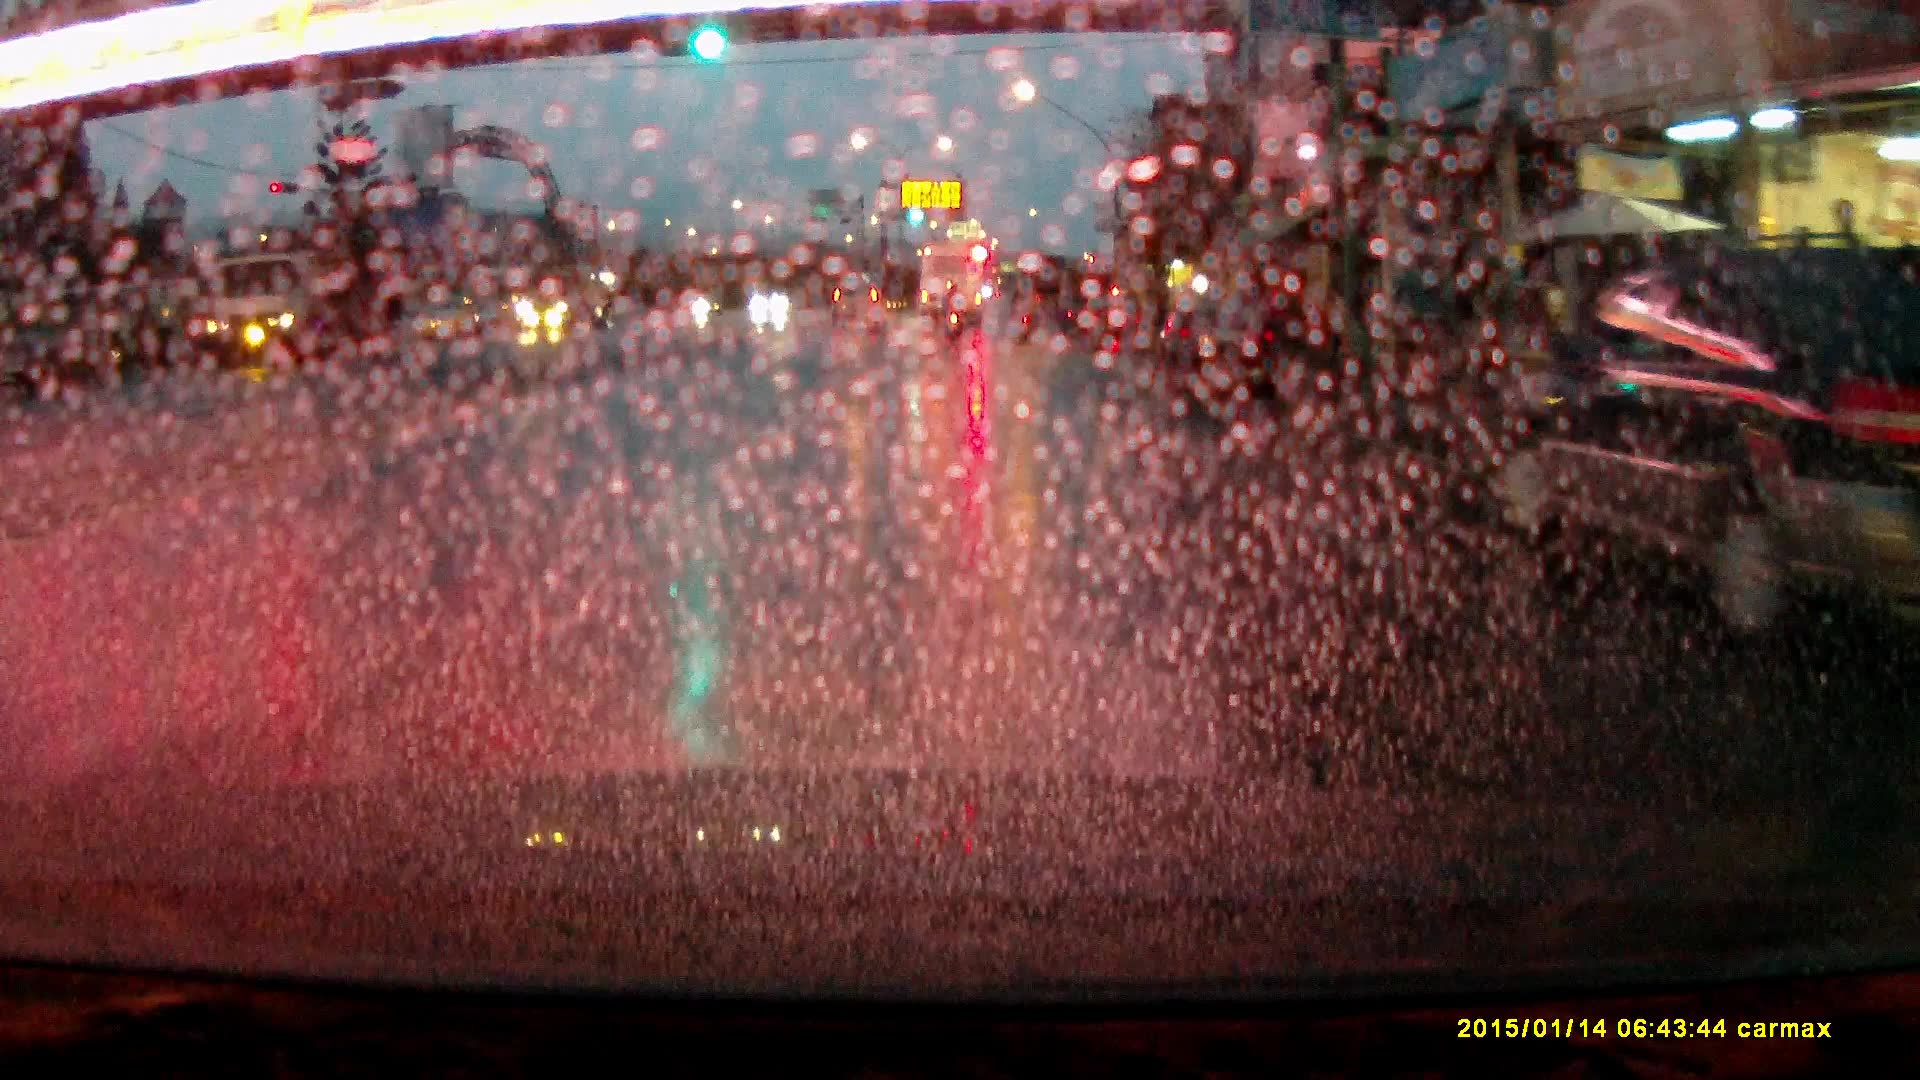rider: (944, 285, 968, 340)
vehicle: (1487, 244, 1920, 649), (197, 252, 389, 364), (1152, 308, 1273, 398), (520, 262, 611, 337), (920, 241, 984, 330), (1074, 298, 1141, 355), (829, 279, 885, 326), (755, 287, 792, 315)
